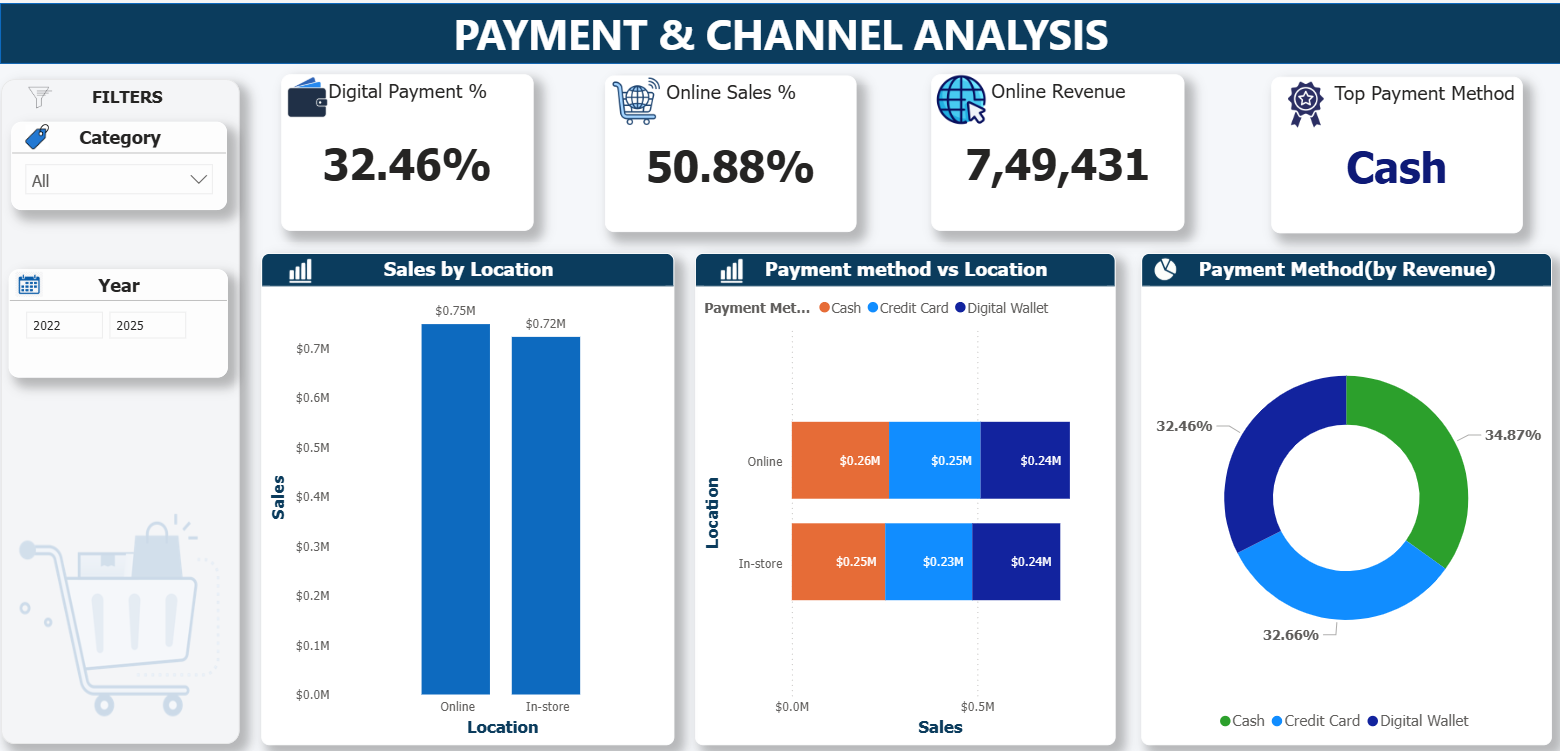

This screenshot's page, from the dashboard's own definition file:
{"tool":"powerbi","page":{"name":"PAYMENT & CHANNEL ANALYSIS","canvas":[1500,720],"ordinal":3},"visuals":[{"type":"shape","box":[0,0,1500,58.6],"z":0},{"type":"card","title":"Digital Payment %","fields":{"Values":["sales_cleaned.Digital Payment %"]},"box":[270,68.5,242,150],"z":0,"group":"g3"},{"type":"image","box":[1.2,73.8,228.8,638.8],"z":2000},{"type":"card","title":"Online Sales %","fields":{"Values":["sales_cleaned.Online Sales %"]},"box":[581.4,70,241.4,150],"z":3000},{"type":"slicer","title":"Category","fields":{"Values":["sales_cleaned.Category"]},"box":[11.2,114.3,207.5,85],"z":3000,"group":"g8"},{"type":"image","box":[578.6,71.4,64.3,47.1],"z":4000},{"type":"group","id":"g1","title":"Group 1","box":[1218.6,71.4,242.9,150],"z":5000},{"type":"group","id":"g2","title":"Group 2","box":[894.3,67.6,242.9,151.2],"z":6000},{"type":"slicer","title":"Year","fields":{"Values":["sales_cleaned.Transaction Date.Variation.Date Hierarchy.Year"]},"box":[8.6,255.7,210,103.8],"z":6000,"group":"g7"},{"type":"group","id":"g3","title":"Group 3","box":[270,64.4,242,154.1],"z":7000},{"type":"textbox","box":[7.1,75.2,230,42.5],"z":7000,"group":"g9"},{"type":"image","box":[10.7,66.7,55.7,47.1],"z":8000,"group":"g9"},{"type":"group","id":"g4","title":"Group 4","box":[251.4,240,397.1,472.9],"z":8000,"group":"g10"},{"type":"image","box":[18.7,116.8,35,23.8],"z":9000,"group":"g8"},{"type":"group","id":"g5","title":"Group 5","box":[667.1,240,404.3,472.9],"z":9000},{"type":"group","id":"g6","title":"Group 6","box":[1095.7,240,394.3,472.9],"z":10000},{"type":"group","id":"g7","title":"Group 7","box":[8.6,255.7,210,104.3],"z":11000},{"type":"image","box":[11.1,257.6,35,23.8],"z":12000,"group":"g7"},{"type":"image","box":[275.7,64.4,38.6,50],"z":14000,"group":"g3"},{"type":"group","id":"g8","title":"Group 10","box":[11.2,114.3,207.5,85],"z":14000},{"type":"group","id":"g9","title":"Group 11","box":[7.1,66.7,230,51],"z":15000},{"type":"columnChart","title":"Sales by Location","fields":{"Category":["sales_cleaned.Location"],"Y":["Sum(sales_cleaned.Total_Sales)"]},"box":[251.4,240,397.1,472.9],"z":15000,"group":"g4"},{"type":"barChart","title":"Payment method vs Location","fields":{"Y":["Sum(sales_cleaned.Total_Sales)"],"Category":["sales_cleaned.Location"],"Series":["sales_cleaned.Payment Method"]},"box":[667.1,240,404.3,472.9],"z":16000,"group":"g5"},{"type":"card","title":"Online Revenue","fields":{"Values":["sales_cleaned.Online Revenue"]},"box":[894.3,68.8,242.9,150],"z":17000,"group":"g2"},{"type":"donutChart","title":"Payment Method(by Revenue)","fields":{"Category":["sales_cleaned.Payment Method"],"Y":["sales_cleaned.Total Revenue"]},"box":[1095.7,240,394.3,472.9],"z":17000,"group":"g6"},{"type":"card","title":"Top Payment Method","fields":{"Values":["sales_cleaned.Top Payment Method"]},"box":[1220.7,71.4,241.3,150],"z":18000,"group":"g1"},{"type":"image","box":[896.7,67.6,52.9,51.4],"z":19000,"group":"g2"},{"type":"image","box":[1218.6,75.7,71.4,44.3],"z":20000,"group":"g1"},{"type":"image","box":[270,240,38.6,34.3],"z":20002,"group":"g10"},{"type":"image","box":[682.8,240,38.6,34.3],"z":20002,"group":"g5"},{"type":"group","id":"g10","title":"Group 8","box":[251.4,240,397.1,472.9],"z":20003},{"type":"image","box":[1100,241.4,37.1,28.6],"z":20005,"group":"g6"}]}

Visuals, with their boxes in screenshot pixels (x1, y1, x2, y2), scaled from the page's 1500x720 canvas onto the 1560x751 screenshot:
shape: 0:0:1559:61
"Digital Payment %" card: 281:71:532:228
image: 1:77:239:743
"Online Sales %" card: 605:73:856:229
"Category" slicer: 12:119:227:208
image: 602:74:669:124
"Group 1" group: 1267:74:1520:231
"Group 2" group: 930:71:1183:228
"Year" slicer: 9:267:227:375
"Group 3" group: 281:67:532:228
textbox: 7:78:247:123
image: 11:70:69:119
"Group 4" group: 261:250:674:744
image: 19:122:56:147
"Group 5" group: 694:250:1114:744
"Group 6" group: 1140:250:1550:744
"Group 7" group: 9:267:227:376
image: 12:269:48:294
image: 287:67:327:119
"Group 10" group: 12:119:227:208
"Group 11" group: 7:70:247:123
"Sales by Location" columnChart: 261:250:674:744
"Payment method vs Location" barChart: 694:250:1114:744
"Online Revenue" card: 930:72:1183:228
"Payment Method(by Revenue)" donutChart: 1140:250:1550:744
"Top Payment Method" card: 1270:74:1520:231
image: 933:71:988:124
image: 1267:79:1342:125
image: 281:250:321:286
image: 710:250:750:286
"Group 8" group: 261:250:674:744
image: 1144:252:1183:282
